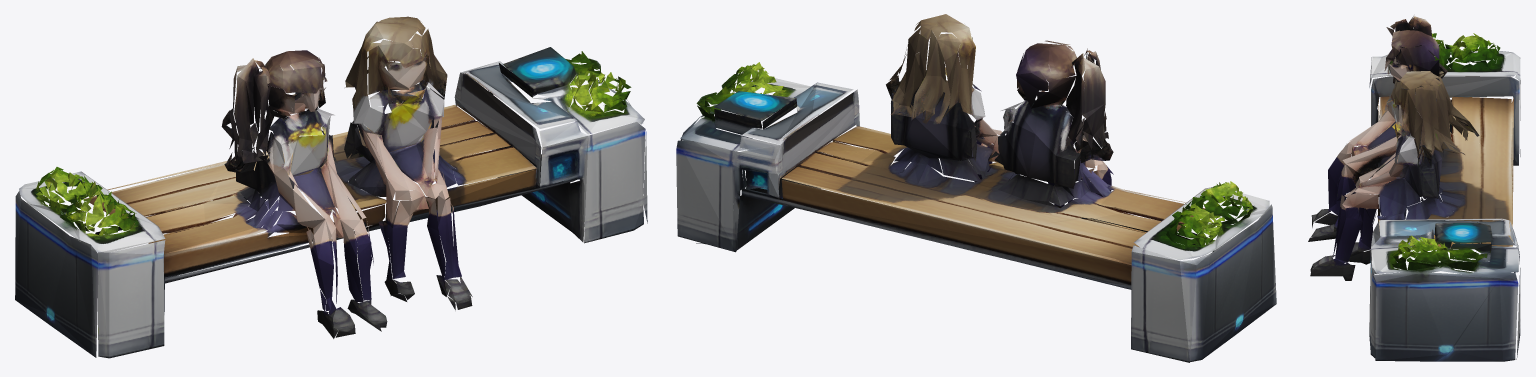
File: girls_bench.glb
3 renders of one model, left to right at view 1: azimuth 30°, elevation 25°; view 2: azimuth 150°, elevation 25°; view 3: azimuth 270°, elevation 25°, orthographic. The views are drawn at different scales.
Visible parts, largest first — view 1: world.313; view 2: world.313; view 3: world.313.
Boxes of the visible parts, left/top/right/bottom form: world.313: left=15, top=16, right=647, bottom=358; world.313: left=676, top=14, right=1276, bottom=362; world.313: left=1308, top=16, right=1520, bottom=361.
Bounding box in the file's own units: 0.9977 × 0.4201 × 0.4055.
Materials: 1 (1 with a texture image).
